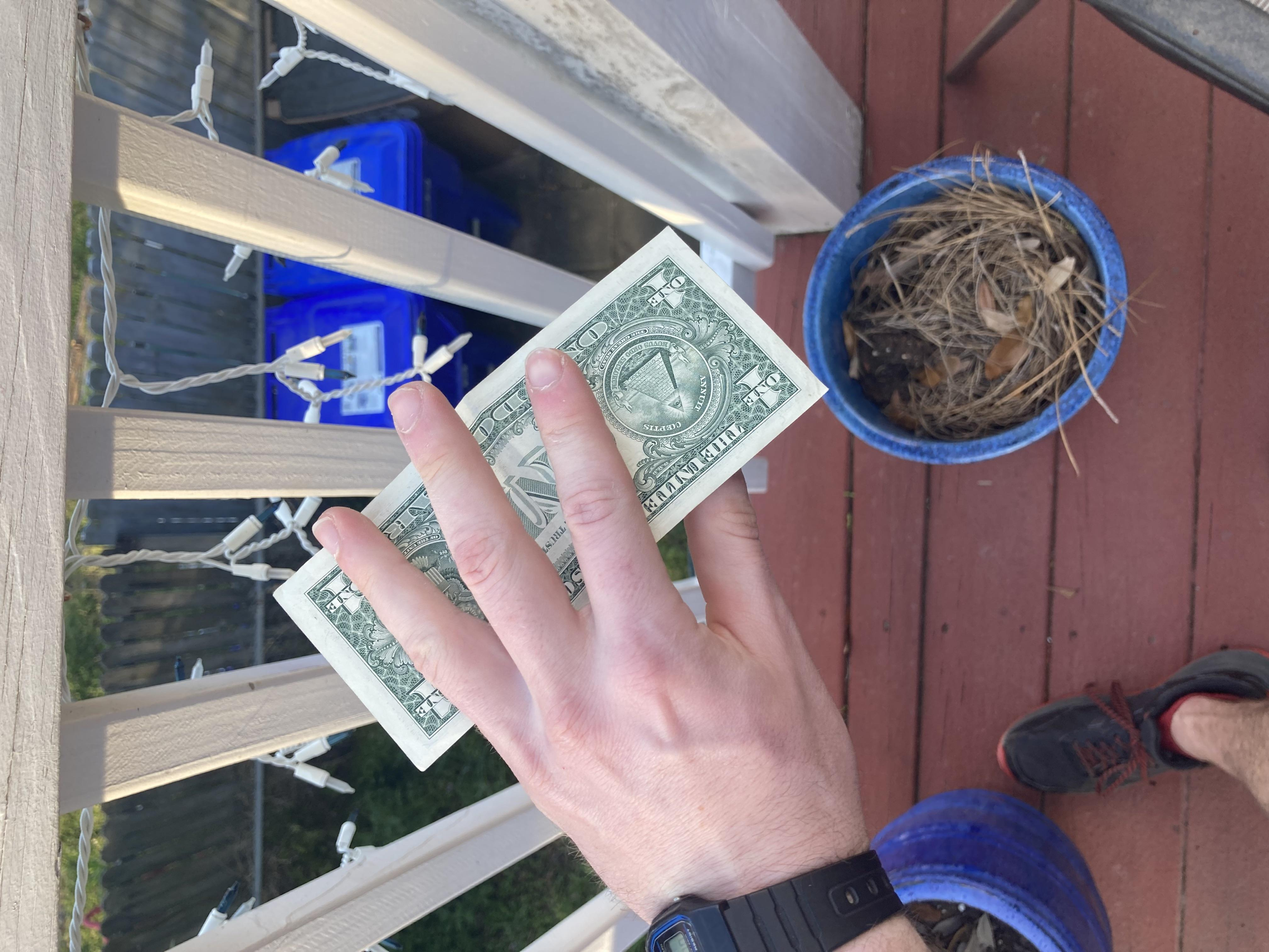one-back: (240, 206, 969, 623)
